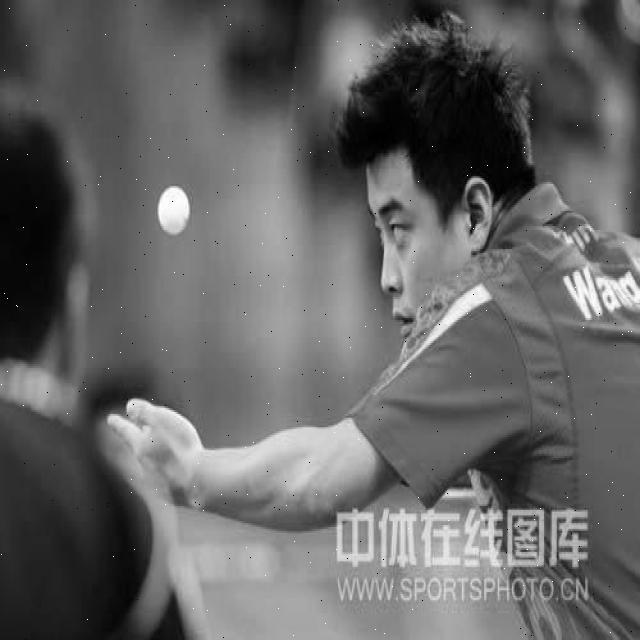ping-pong-ball: (158, 186, 192, 236)
